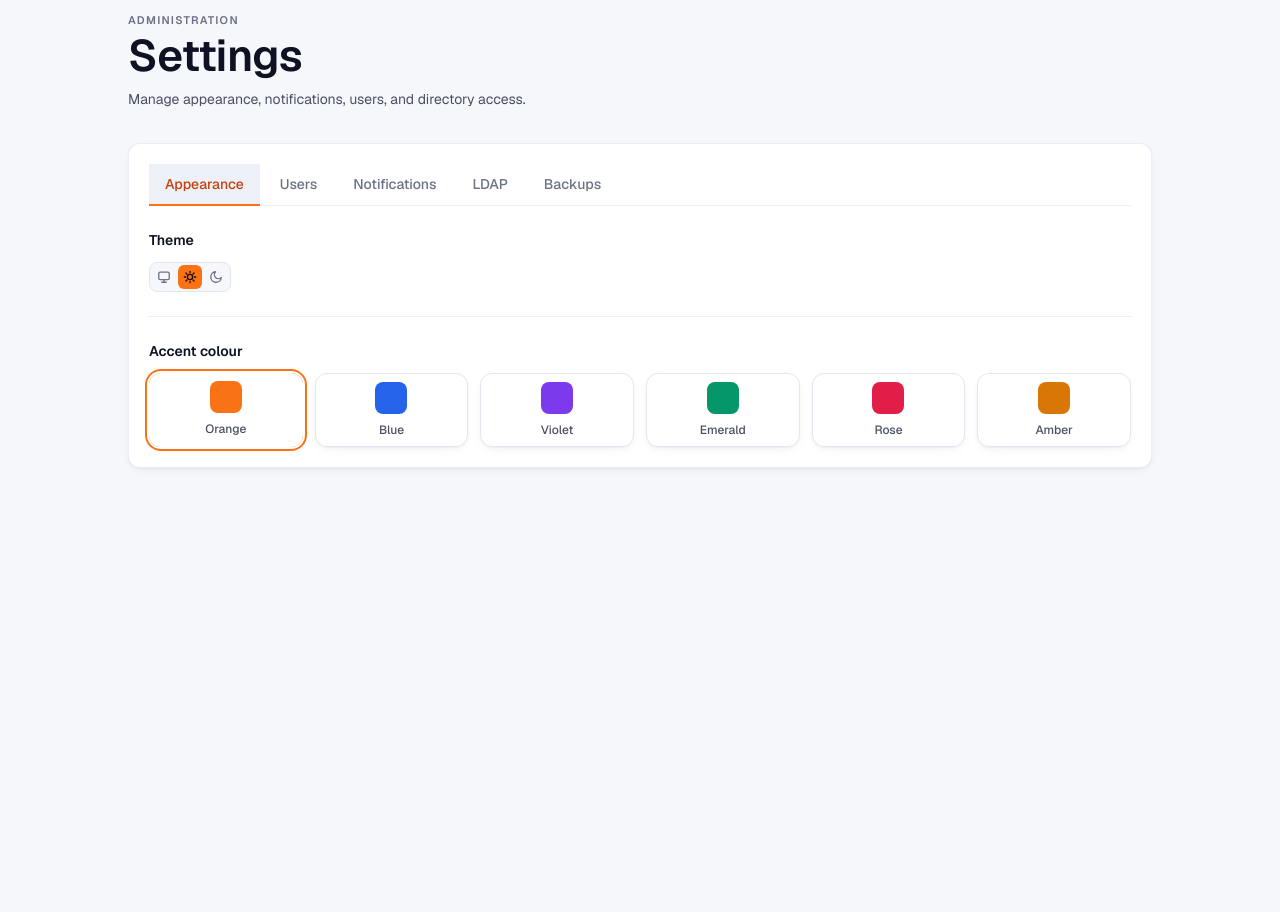
Test: SettingsPage › opens LDAP settings from its tab
Click the tab "LDAP". click: {"x": 490, "y": 185}
box: [456,164,524,206]
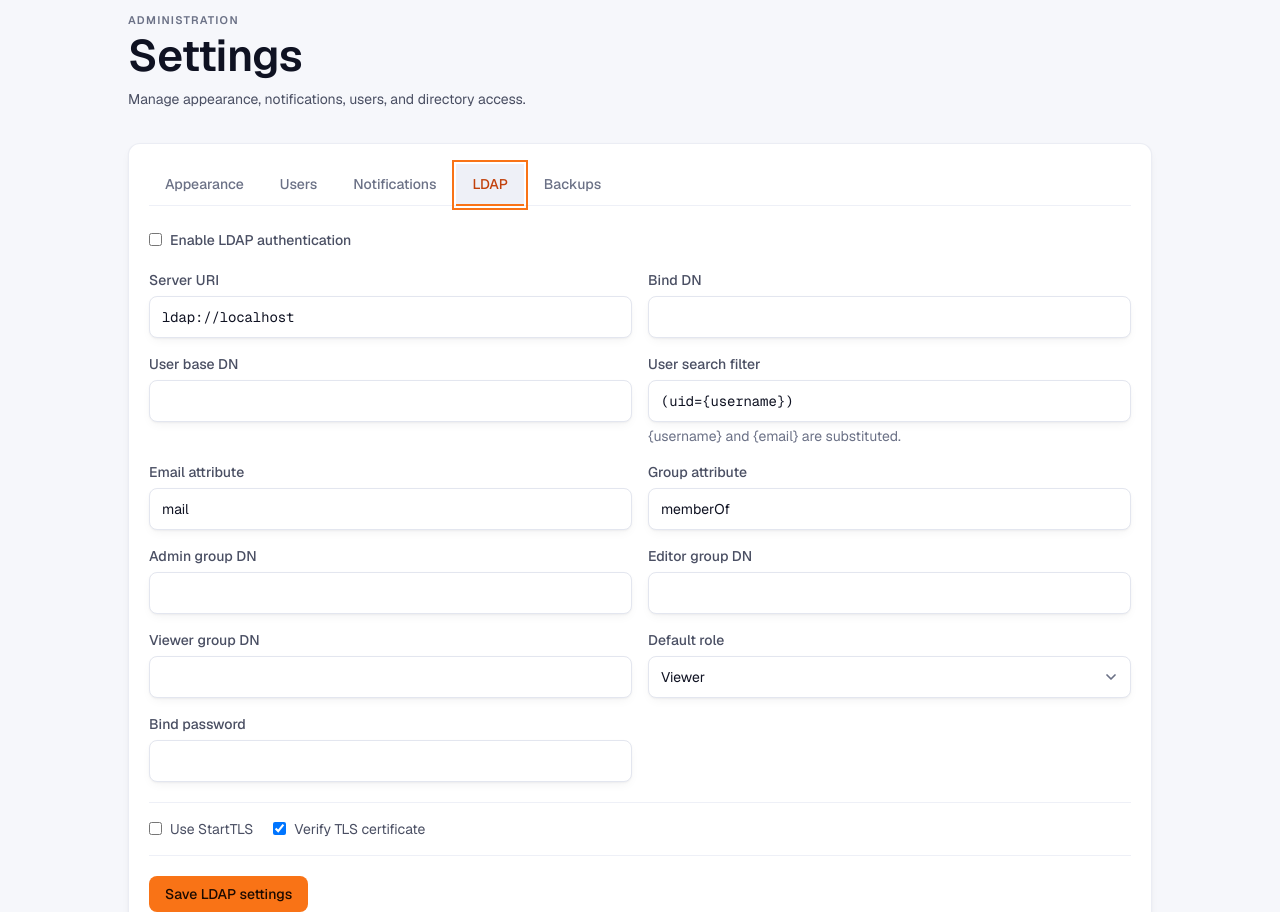
Expected: the field labelled "Server URI" is shown, [149,296,632,338]
